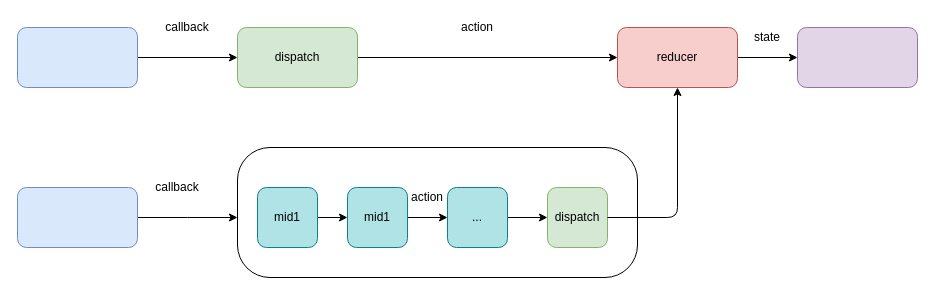
Some shapes in this 935 by 295 pixel diagram are drawn without their labels. The shapes that lost their labels are listed below. From the top down, each one's centre as x and y in pixels, then its label:
the point at 77,57: button1
the point at 857,57: view
the point at 77,217: button2
